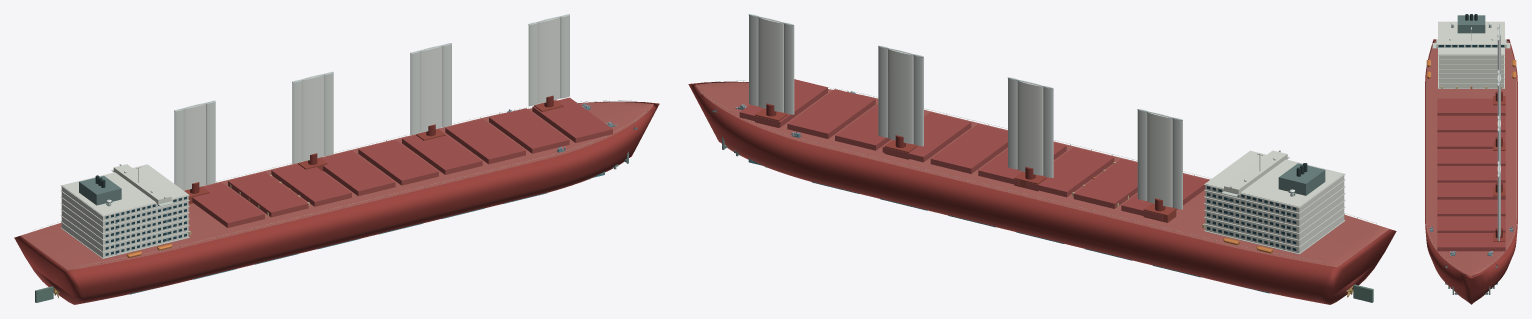
File: berge-olympus.lod1.glb
The picture shows the model from 3 angles, left to right: view 1: azimuth 30°, elevation 25°; view 2: azimuth 150°, elevation 25°; view 3: azimuth 270°, elevation 25°; orthographic projection. The views are drawn at different scales.
Visible parts, largest first — view 1: berge-olympus.structure.hull.outer-hull-shell.1, berge-olympus.structure.decks.main-strength-deck.1, berge-olympus.structure.hull.antifouling-underwater-shell.1, berge-olympus.accommodation.superstructure.deck-7-enclosure., berge-olympus.cargo.hatches.hatch-cover-5.1, berge-olympus.cargo.hatches.hatch-cover-7.1, berge-olympus.cargo.hatches.hatch-cover-8.1, berge-olympus.cargo.hatches.hatch-cover-2.1, berge-olympus.cargo.hatches.hatch-cover-4.1, berge-olympus.cargo.hatches.hatch-cover-3.1, berge-olympus.cargo.wind-assistance.windwing-3.1, berge-olympus.cargo.wind-assistance.windwing-4.1 (+21 smaller); view 2: berge-olympus.structure.hull.outer-hull-shell.1, berge-olympus.structure.decks.main-strength-deck.1, berge-olympus.structure.hull.antifouling-underwater-shell.1, berge-olympus.accommodation.superstructure.deck-7-enclosure., berge-olympus.cargo.hatches.hatch-cover-8.1, berge-olympus.cargo.wind-assistance.windwing-2.1, berge-olympus.cargo.wind-assistance.windwing-4.1, berge-olympus.cargo.wind-assistance.windwing-3.1, berge-olympus.cargo.wind-assistance.windwing-1.1, berge-olympus.cargo.hatches.hatch-cover-5.1, berge-olympus.cargo.hatches.hatch-cover-3.1, berge-olympus.cargo.hatches.hatch-cover-2.1 (+21 smaller); view 3: berge-olympus.structure.decks.main-strength-deck.1, berge-olympus.structure.hull.outer-hull-shell.1, berge-olympus.accommodation.superstructure.deck-7-enclosure., berge-olympus.cargo.hatches.hatch-cover-9.1, berge-olympus.cargo.hatches.hatch-cover-2.1, berge-olympus.cargo.hatches.hatch-cover-7.1, berge-olympus.cargo.hatches.hatch-cover-5.1, berge-olympus.cargo.hatches.hatch-cover-1.1, berge-olympus.cargo.hatches.hatch-cover-8.1, berge-olympus.cargo.hatches.hatch-cover-4.1, berge-olympus.cargo.hatches.hatch-cover-6.1, berge-olympus.cargo.hatches.hatch-cover-3.1 (+20 smaller).
Part boxes in pixels (left/top/right/bottom): berge-olympus.structure.hull.outer-hull-shell.1: left=14, top=101, right=659, bottom=297; berge-olympus.structure.decks.main-strength-deck.1: left=21, top=102, right=653, bottom=270; berge-olympus.structure.hull.antifouling-underwater-shell.1: left=31, top=143, right=638, bottom=304; berge-olympus.accommodation.superstructure.deck-7-enclosure.: left=61, top=164, right=188, bottom=220; berge-olympus.cargo.hatches.hatch-cover-5.1: left=358, top=140, right=438, bottom=185; berge-olympus.cargo.hatches.hatch-cover-7.1: left=445, top=118, right=525, bottom=164; berge-olympus.cargo.hatches.hatch-cover-8.1: left=489, top=108, right=569, bottom=153; berge-olympus.cargo.hatches.hatch-cover-2.1: left=228, top=172, right=308, bottom=217; berge-olympus.cargo.hatches.hatch-cover-4.1: left=321, top=150, right=395, bottom=196; berge-olympus.cargo.hatches.hatch-cover-3.1: left=271, top=164, right=351, bottom=206; berge-olympus.cargo.wind-assistance.windwing-3.1: left=420, top=45, right=442, bottom=132; berge-olympus.cargo.wind-assistance.windwing-4.1: left=538, top=17, right=560, bottom=103; berge-olympus.structure.hull.outer-hull-shell.1: left=688, top=81, right=1396, bottom=297; berge-olympus.structure.decks.main-strength-deck.1: left=695, top=82, right=1389, bottom=267; berge-olympus.structure.hull.antifouling-underwater-shell.1: left=711, top=127, right=1377, bottom=304; berge-olympus.accommodation.superstructure.deck-7-enclosure.: left=1205, top=151, right=1344, bottom=212; berge-olympus.cargo.hatches.hatch-cover-8.1: left=787, top=89, right=875, bottom=138; berge-olympus.cargo.wind-assistance.windwing-2.1: left=1017, top=80, right=1043, bottom=175; berge-olympus.cargo.wind-assistance.windwing-4.1: left=758, top=17, right=783, bottom=112; berge-olympus.cargo.wind-assistance.windwing-3.1: left=888, top=49, right=913, bottom=143; berge-olympus.cargo.wind-assistance.windwing-1.1: left=1147, top=112, right=1172, bottom=207; berge-olympus.cargo.hatches.hatch-cover-5.1: left=930, top=124, right=1007, bottom=173; berge-olympus.cargo.hatches.hatch-cover-3.1: left=1026, top=147, right=1114, bottom=197; berge-olympus.cargo.hatches.hatch-cover-2.1: left=1073, top=159, right=1137, bottom=208; berge-olympus.structure.decks.main-strength-deck.1: left=1426, top=41, right=1516, bottom=276; berge-olympus.structure.hull.outer-hull-shell.1: left=1425, top=39, right=1517, bottom=295; berge-olympus.accommodation.superstructure.deck-7-enclosure.: left=1439, top=21, right=1503, bottom=58; berge-olympus.cargo.hatches.hatch-cover-9.1: left=1437, top=233, right=1505, bottom=251; berge-olympus.cargo.hatches.hatch-cover-2.1: left=1437, top=115, right=1505, bottom=132; berge-olympus.cargo.hatches.hatch-cover-7.1: left=1437, top=199, right=1505, bottom=216; berge-olympus.cargo.hatches.hatch-cover-5.1: left=1437, top=166, right=1505, bottom=182; berge-olympus.cargo.hatches.hatch-cover-1.1: left=1437, top=98, right=1505, bottom=115; berge-olympus.cargo.hatches.hatch-cover-8.1: left=1437, top=216, right=1505, bottom=232; berge-olympus.cargo.hatches.hatch-cover-4.1: left=1437, top=149, right=1505, bottom=165; berge-olympus.cargo.hatches.hatch-cover-6.1: left=1437, top=182, right=1505, bottom=199; berge-olympus.cargo.hatches.hatch-cover-3.1: left=1437, top=132, right=1505, bottom=148.
Size of the model in its own units: 301 by 65.14 by 49.
